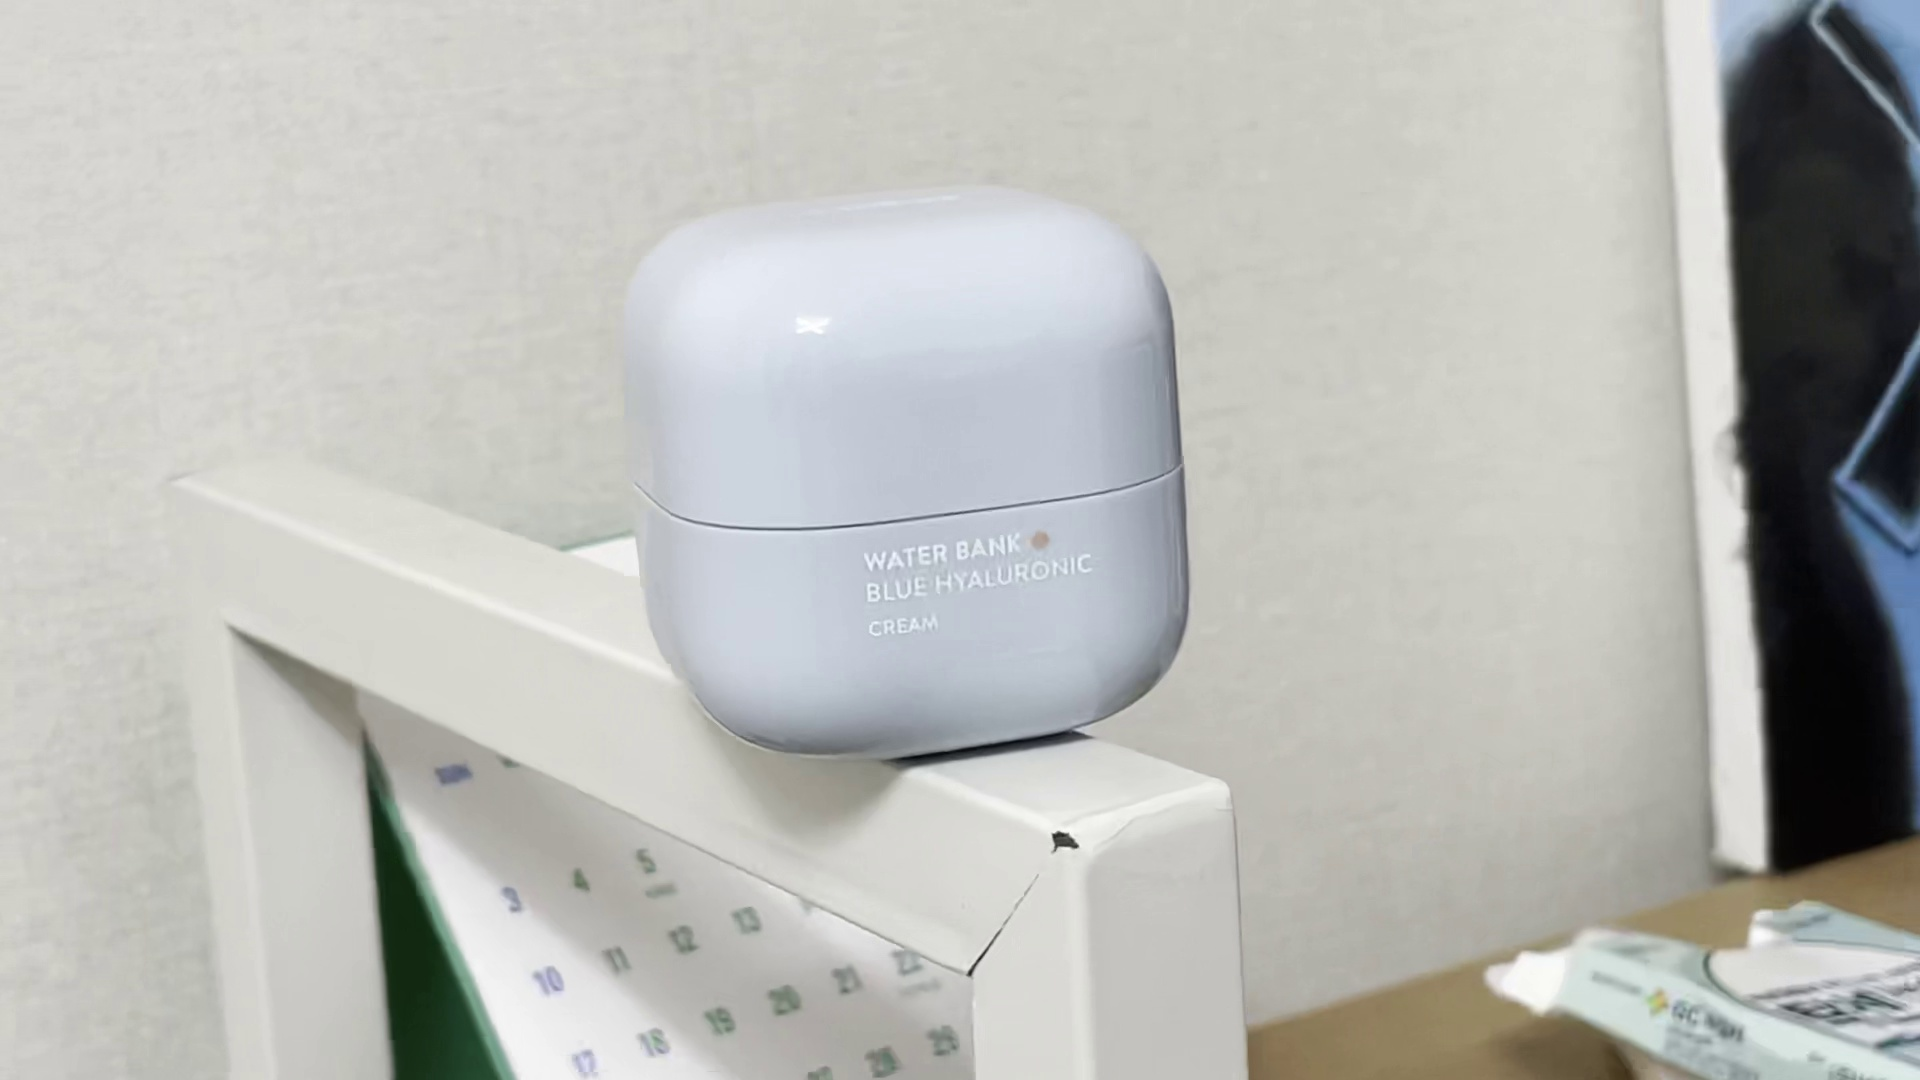cream: (622, 182, 1199, 766)
